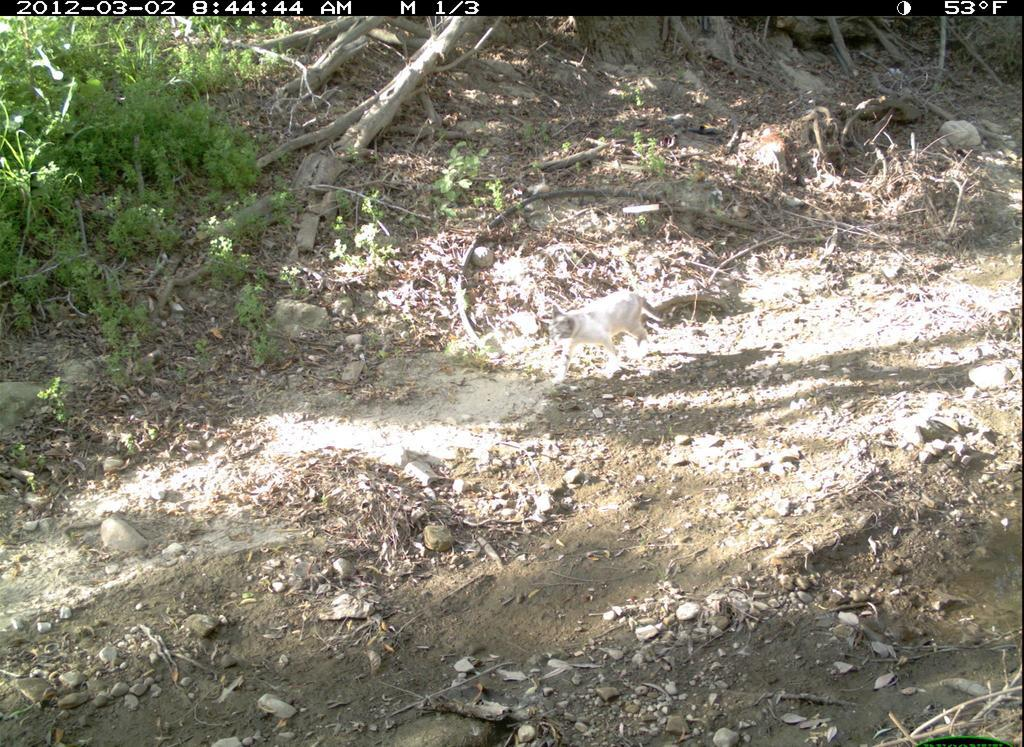cat: (538, 281, 670, 386)
